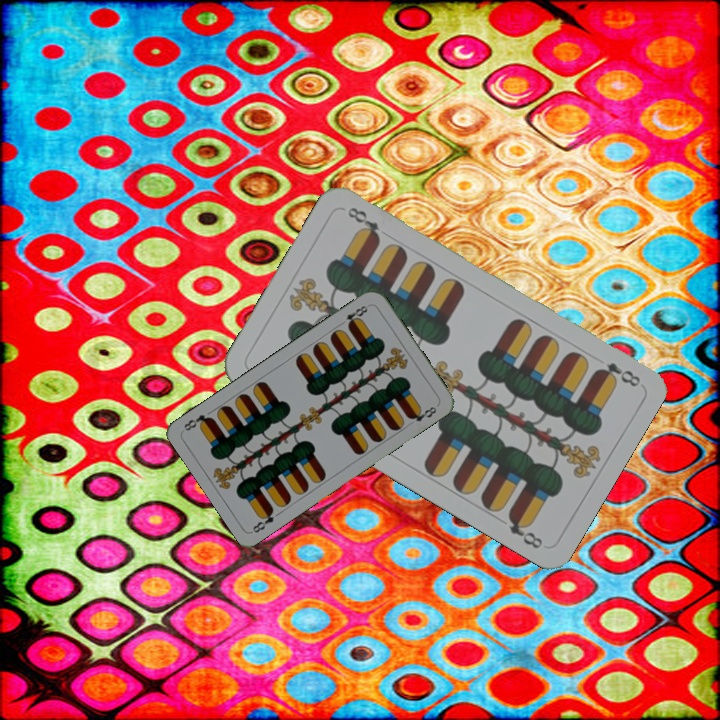E8: (591, 358, 643, 390), (248, 505, 284, 536), (341, 301, 372, 330)
